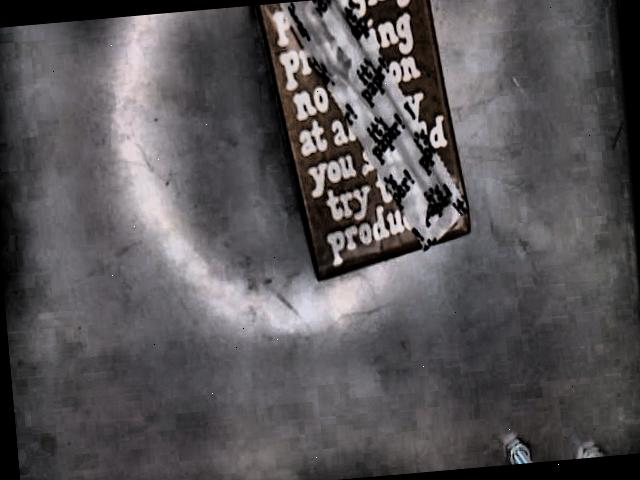Paper: (258, 0, 473, 283)
